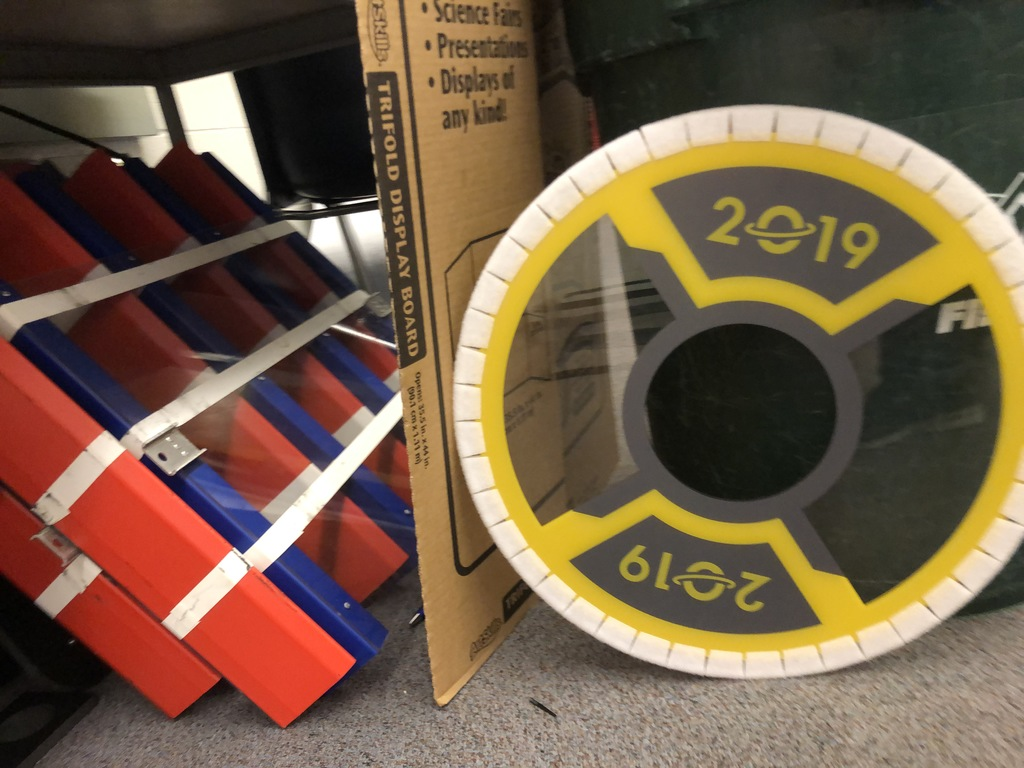hatch_panel: (436, 87, 1024, 711)
